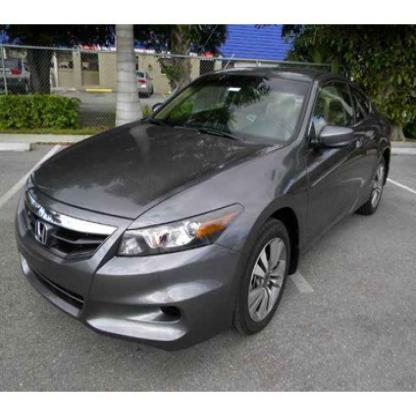car: (14, 69, 394, 347)
